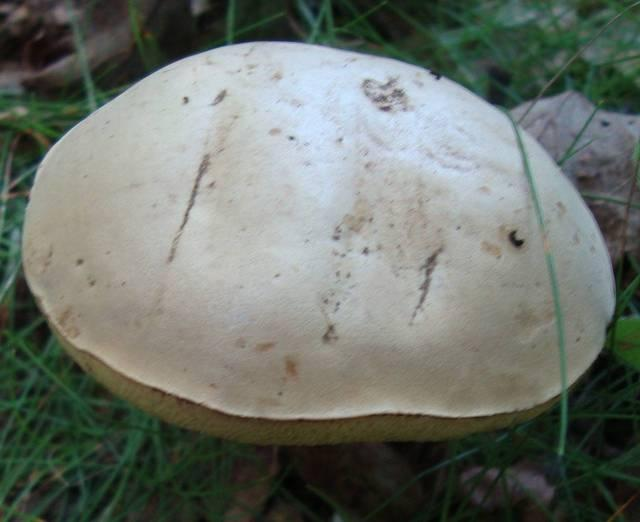Edible Mushroom: (19, 38, 618, 449)
